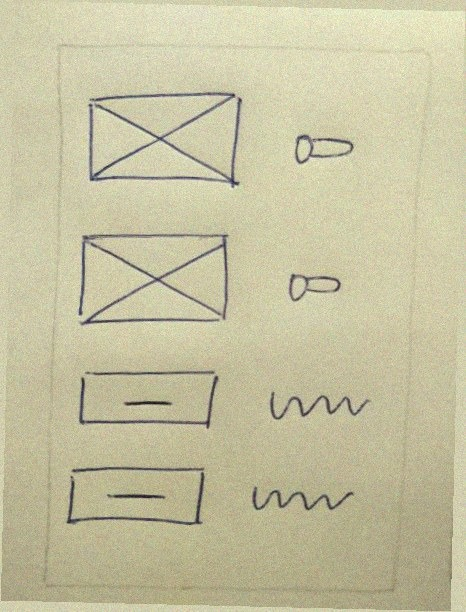button: (69, 359, 225, 437), (60, 456, 215, 534)
image: (68, 221, 239, 335), (80, 83, 250, 197)
switch: (287, 122, 360, 178), (278, 254, 351, 310)
text: (258, 377, 378, 439), (243, 473, 363, 526)
